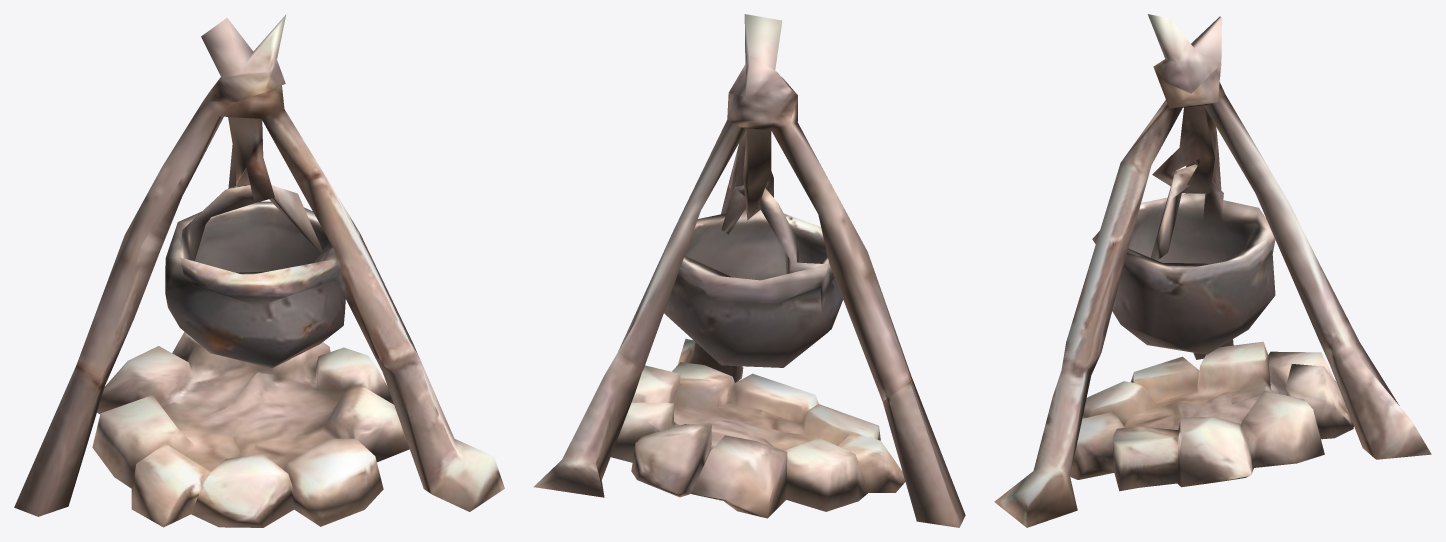
Rendered from cook_pot.glb.
The picture shows the model from 3 angles, left to right: view 1: azimuth 30°, elevation 25°; view 2: azimuth 150°, elevation 25°; view 3: azimuth 270°, elevation 25°; orthographic projection. The views are drawn at different scales.
Parts seen in each view (by area): view 1: cook_pot; view 2: cook_pot; view 3: cook_pot.
Boxes of the visible parts, <box> form: cook_pot: <box>14,14,504,527</box>; cook_pot: <box>534,14,965,527</box>; cook_pot: <box>994,14,1431,527</box>.
Size of the model in its own units: 0.7964 by 0.9 by 0.7962.
1 material, 1 textured.
